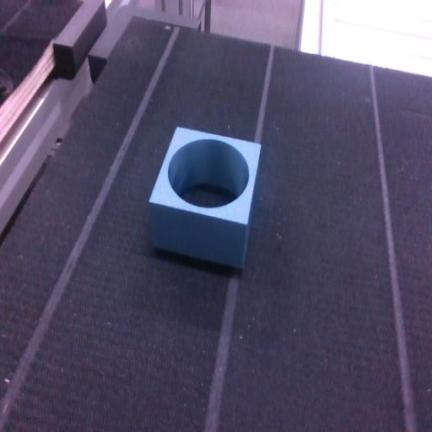hole: (150, 128, 260, 267)
